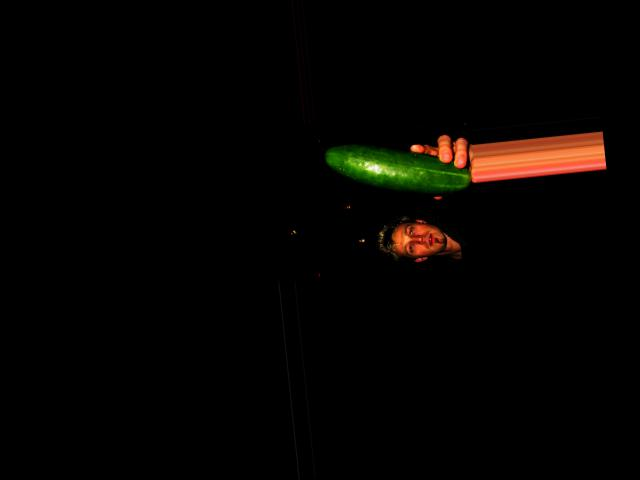cucumber: (324, 131, 471, 204)
